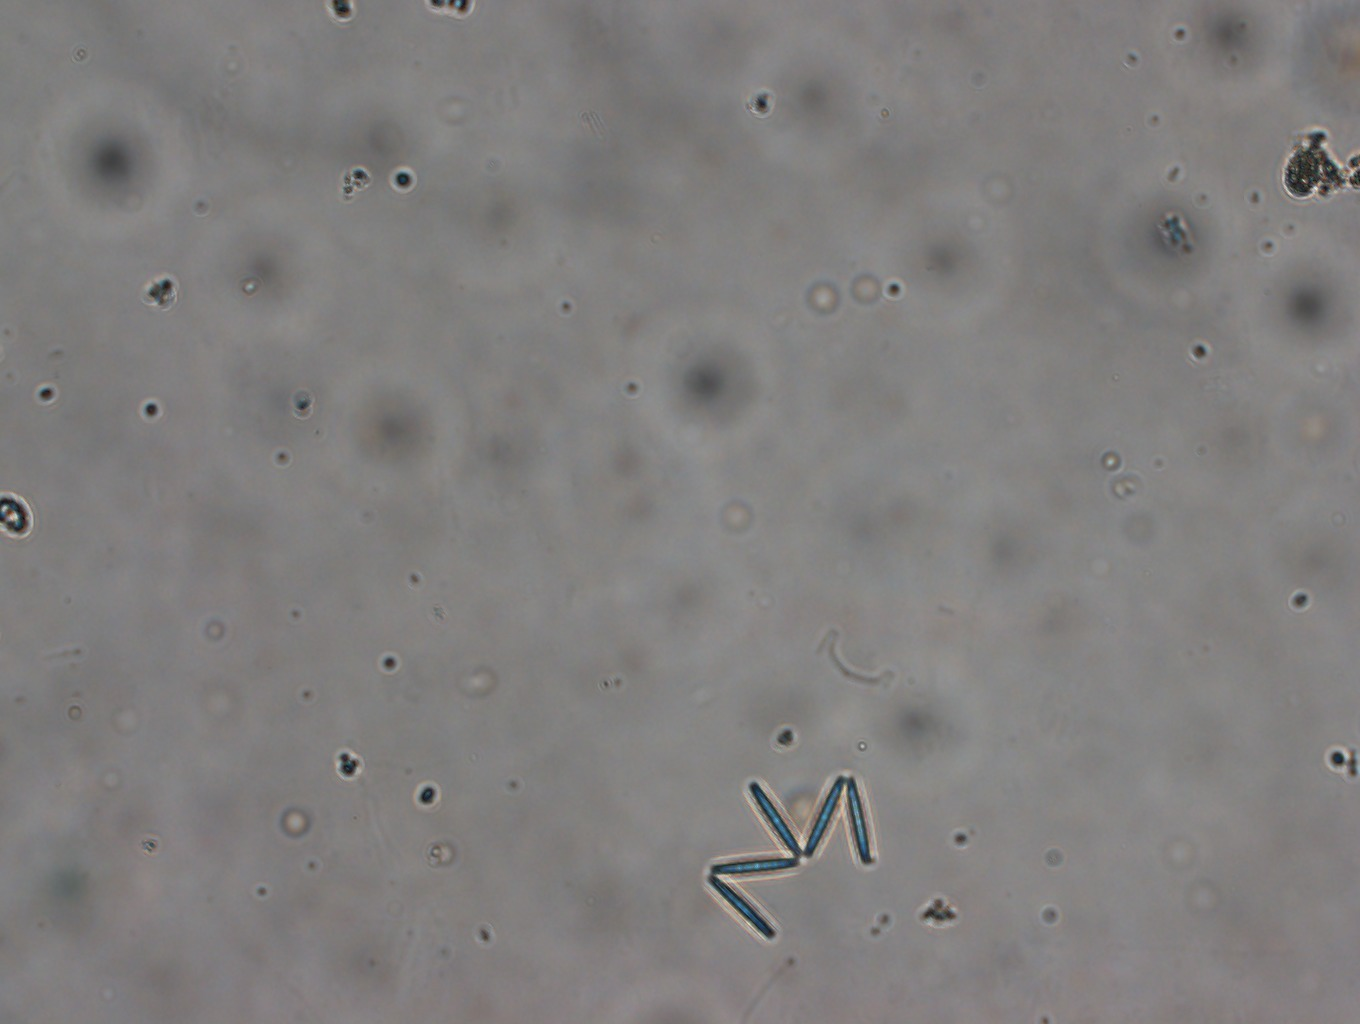thalassionema nitzschioides: (706, 772, 875, 940)
